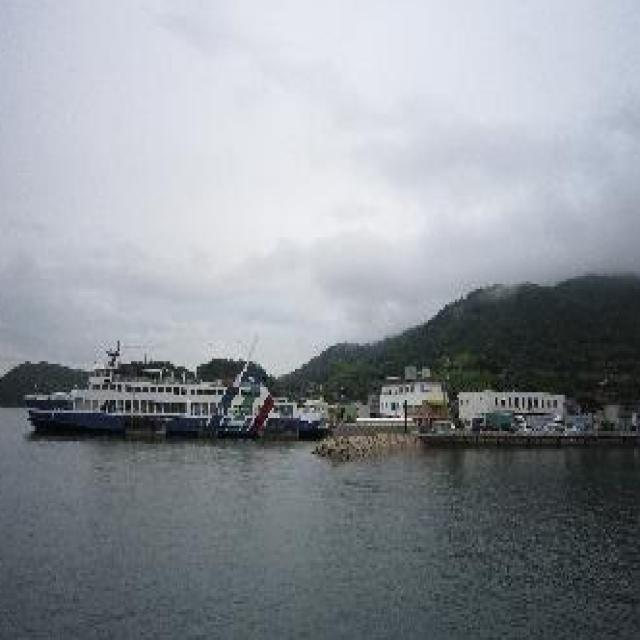passenger ship: (52, 324, 322, 441)
